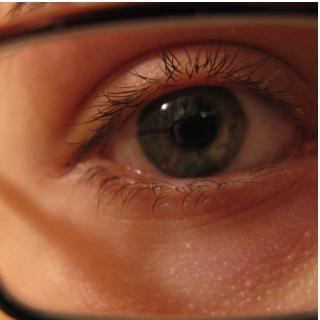pupil: (171, 102, 217, 149)
